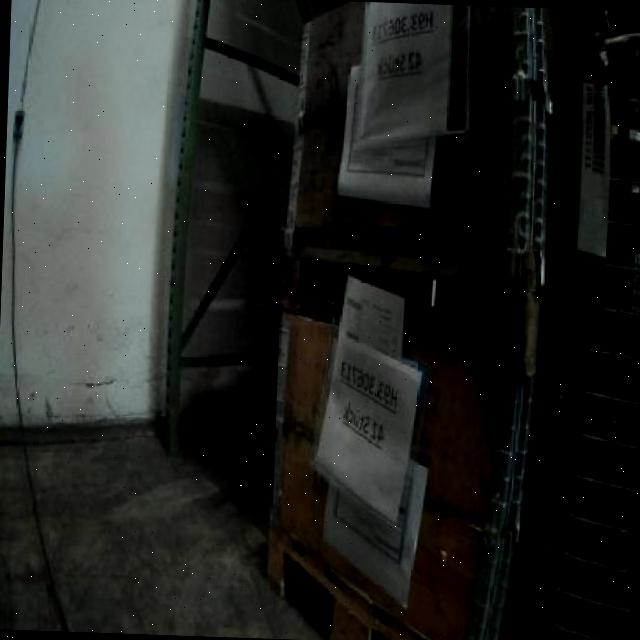pallet: (253, 506, 435, 640)
